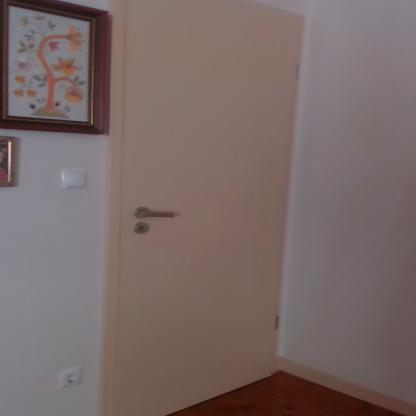door: (124, 0, 281, 415)
hinged: (292, 61, 300, 82), (274, 314, 281, 331)
lever: (138, 210, 178, 220)
